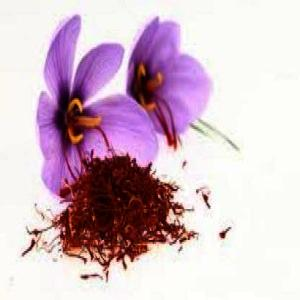Saffron: (36, 12, 154, 188), (129, 16, 211, 147)
